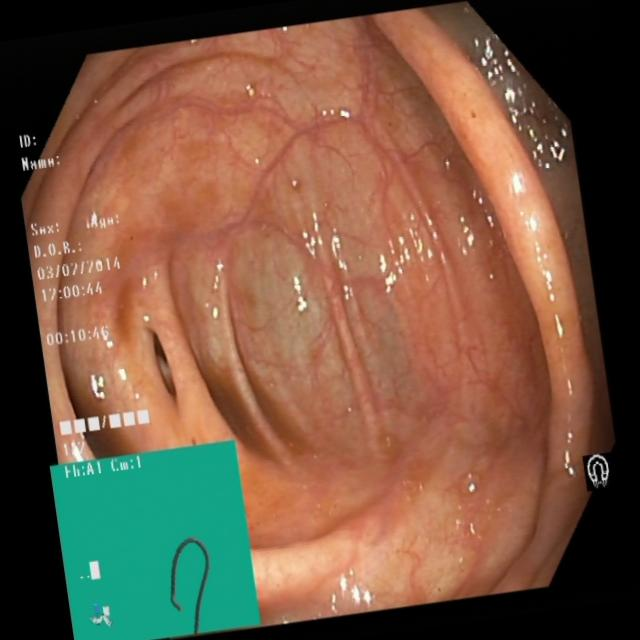normal-cecum: (203, 348, 325, 469), (101, 277, 149, 364)
